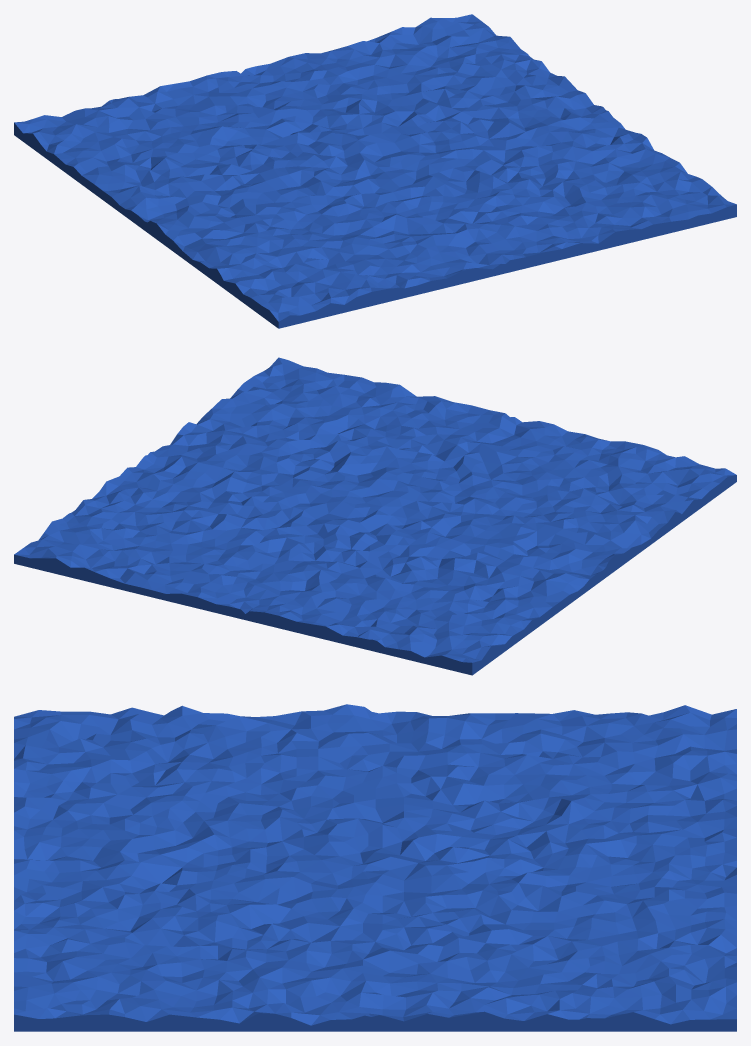
Rendered from lake_mountain.fbx.
3 renders of one model, top to bottom at view 1: azimuth 30°, elevation 25°; view 2: azimuth 150°, elevation 25°; view 3: azimuth 270°, elevation 25°, orthographic. The views are drawn at different scales.
Visible parts, largest first — view 1: Plane; view 2: Plane; view 3: Plane.
Boxes of the visible parts, left/top/right/bottom form: Plane: left=14, top=14, right=736, bottom=328; Plane: left=14, top=357, right=736, bottom=675; Plane: left=14, top=704, right=736, bottom=1031.
Size of the model in its own units: 30000 by 1072 by 30000.
